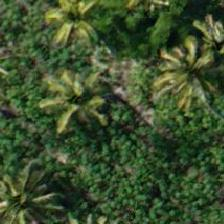Kelapa_Sawit: (22, 59, 112, 149), (140, 30, 223, 121), (0, 163, 65, 223)
